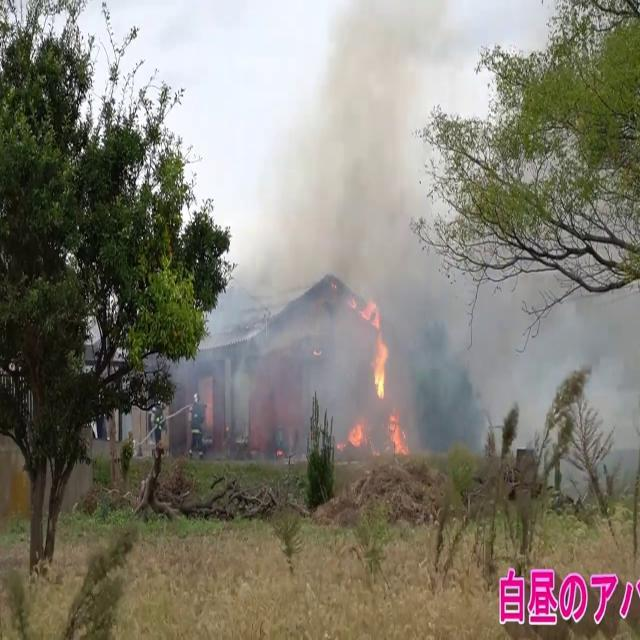Fire: (348, 322, 408, 459)
Smoke: (204, 0, 511, 408)
